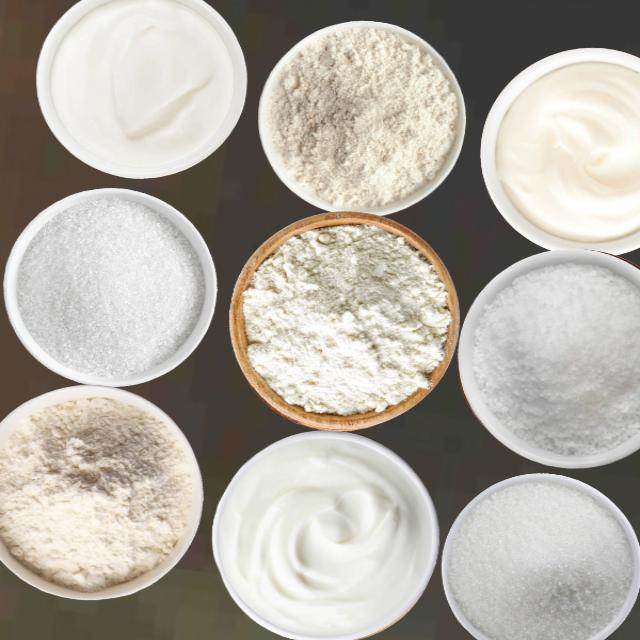Flour: (241, 223, 451, 416), (0, 396, 193, 592), (266, 23, 458, 208), (445, 479, 633, 639)
Sugar: (14, 195, 204, 379), (471, 261, 639, 456)
